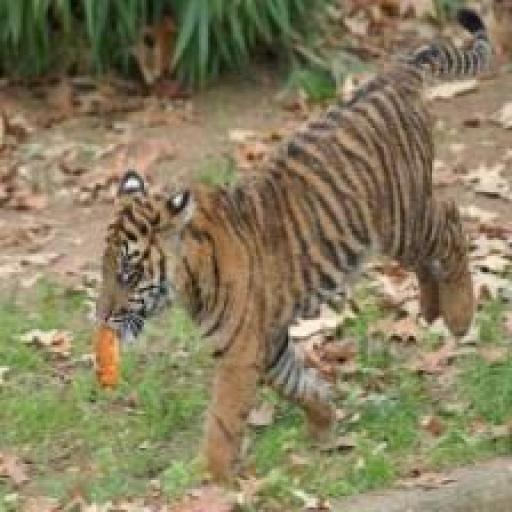Tiger: (96, 8, 492, 488)
